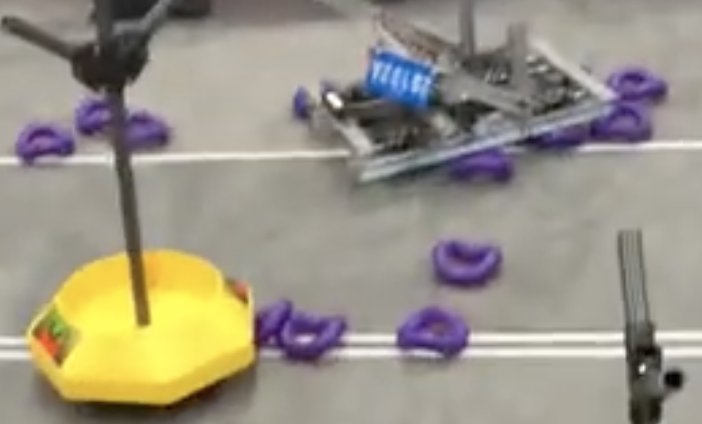ring: (398, 305, 470, 360), (279, 310, 346, 361), (431, 238, 501, 285), (15, 121, 74, 164), (590, 103, 650, 142), (606, 64, 667, 101), (116, 111, 170, 149), (450, 148, 512, 179), (255, 296, 291, 347), (75, 97, 128, 130), (537, 126, 583, 148), (294, 85, 314, 113)
